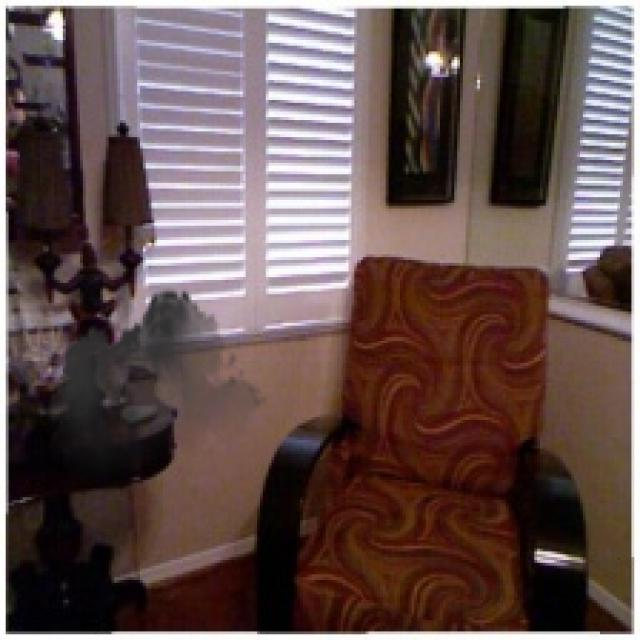smoke: (43, 280, 268, 509)
